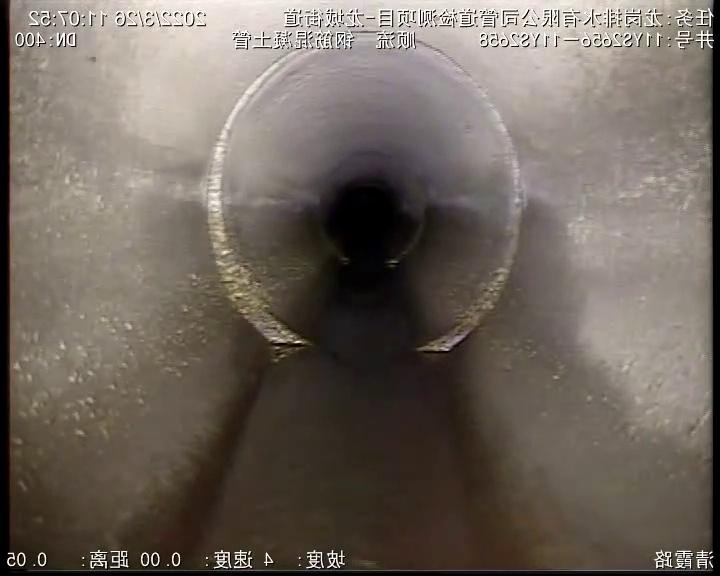CKTJ: (417, 47, 524, 352), (205, 50, 314, 348)
